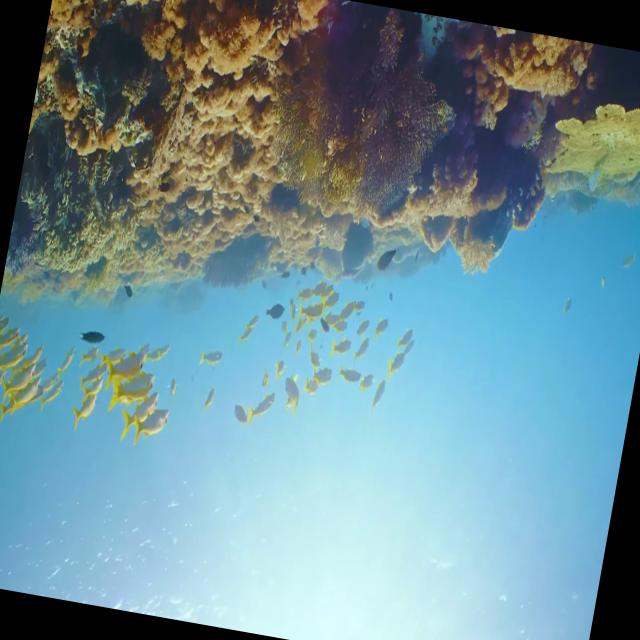fish: (118, 388, 156, 444), (130, 399, 170, 448)
